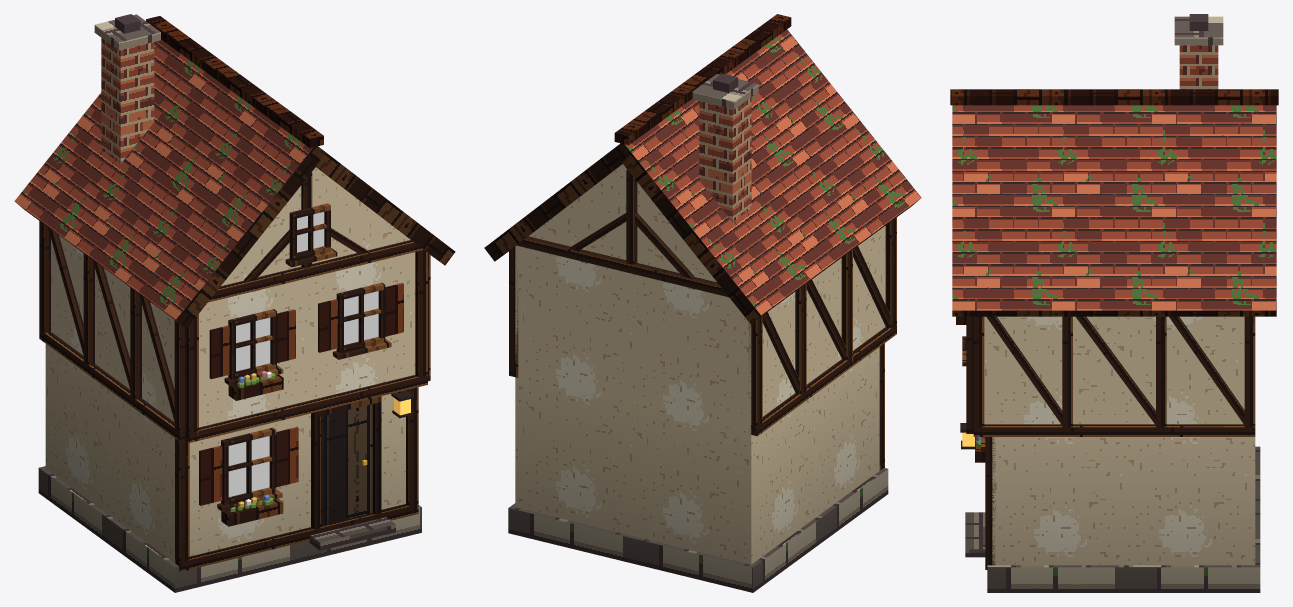
The model's file is cottage_tall.glb.
3 views of the same model, side by side, from view 1: azimuth 30°, elevation 25°; view 2: azimuth 150°, elevation 25°; view 3: azimuth 270°, elevation 25° (orthographic).
Visible parts, largest first — view 1: cottage_tall; view 2: cottage_tall; view 3: cottage_tall.
Boxes of the visible parts, x1,y1,x2,y2 form: cottage_tall: (14,14,455,592); cottage_tall: (484,14,921,592); cottage_tall: (950,14,1278,592).
Size of the model in its own units: 5.16 by 8.51 by 5.24.
Materials: 8 (5 with a texture image).
